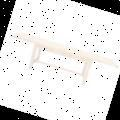Mesa: (0, 29, 119, 94)
